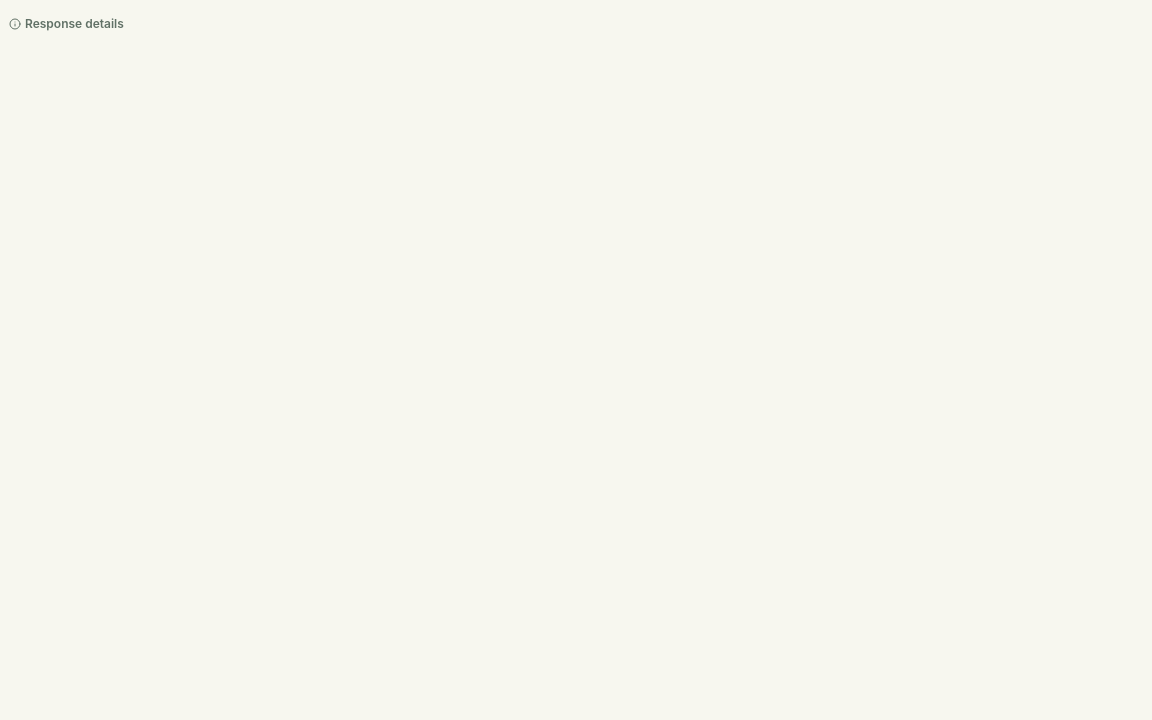
Test: saved incognito verification details preserve each expected lane outcome
The width and height of the screenshot is (1152, 720).
Click the button "Response details" at (66, 24), box [0,12,133,36]
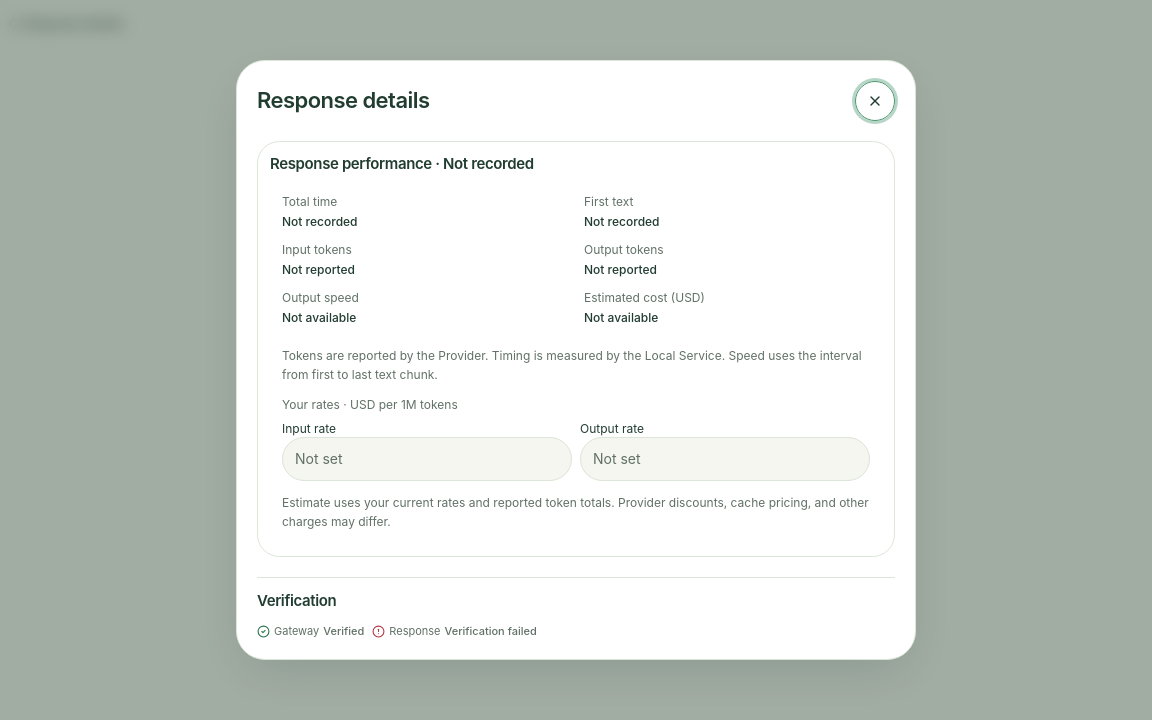
Now the list item "Gateway Verified" is shown, box [257,623,364,639]
